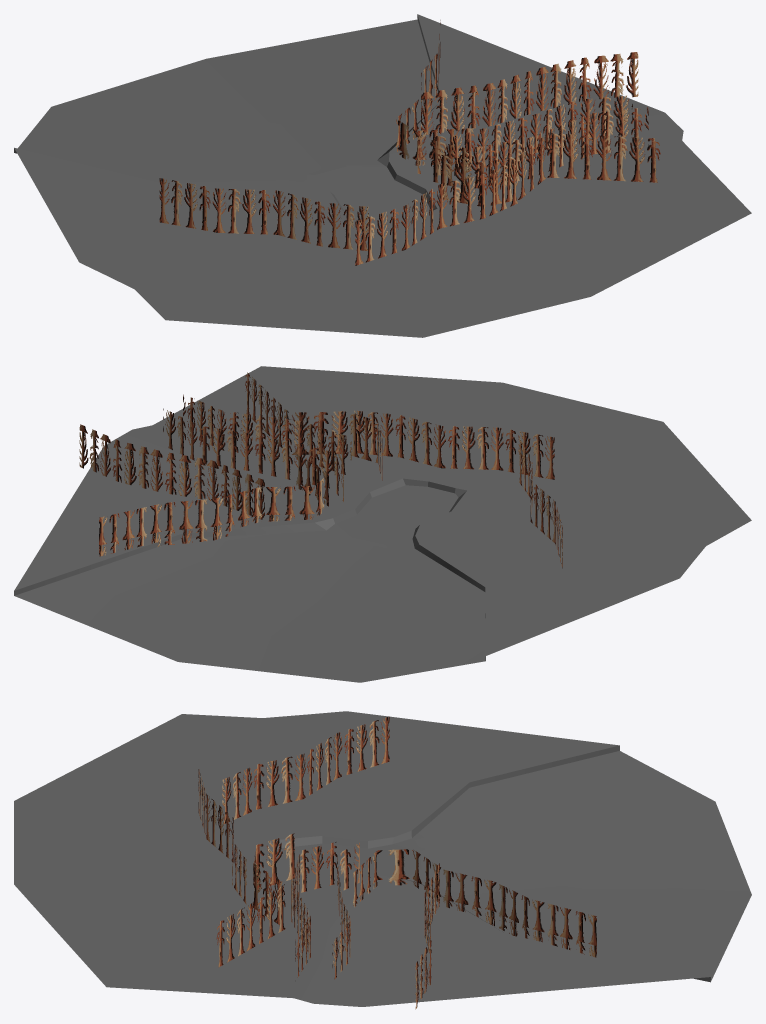
The model's file is NEW_N2_PREBOSS.fbx.
The picture shows the model from 3 angles, top to bottom: view 1: azimuth 30°, elevation 25°; view 2: azimuth 150°, elevation 25°; view 3: azimuth 270°, elevation 25°; orthographic projection. The views are drawn at different scales.
Parts seen in each view (by area): view 1: Escenario, ArbolPlano4, pPlane4, ArbolPlano1, ArbolPlano, ArbolPlano2, ArbolPlano5, ArbolPlano3; view 2: Escenario, ArbolPlano3, ArbolPlano4, ArbolPlano, ArbolPlano5, ArbolPlano2, ArbolPlano1, pPlane4; view 3: Escenario, ArbolPlano3, pPlane4, ArbolPlano1, ArbolPlano2, ArbolPlano, ArbolPlano5, ArbolPlano4.
Boxes of the visible parts, bbox=[...] form: Escenario: bbox=[14, 14, 751, 337]; ArbolPlano4: bbox=[421, 52, 638, 134]; pPlane4: bbox=[159, 178, 368, 250]; ArbolPlano1: bbox=[441, 133, 660, 206]; ArbolPlano: bbox=[355, 159, 518, 265]; ArbolPlano2: bbox=[430, 107, 648, 189]; ArbolPlano5: bbox=[417, 95, 632, 175]; ArbolPlano3: bbox=[396, 20, 473, 165]; Escenario: bbox=[14, 366, 751, 682]; ArbolPlano3: bbox=[99, 454, 328, 556]; ArbolPlano4: bbox=[79, 424, 264, 519]; ArbolPlano: bbox=[354, 410, 554, 479]; ArbolPlano5: bbox=[163, 408, 343, 501]; ArbolPlano2: bbox=[183, 394, 351, 474]; ArbolPlano1: bbox=[245, 372, 382, 480]; pPlane4: bbox=[519, 440, 562, 568]; Escenario: bbox=[14, 711, 751, 1006]; ArbolPlano3: bbox=[353, 849, 596, 957]; pPlane4: bbox=[222, 716, 389, 823]; ArbolPlano1: bbox=[216, 833, 294, 967]; ArbolPlano2: bbox=[291, 842, 337, 977]; ArbolPlano: bbox=[198, 769, 246, 904]; ArbolPlano5: bbox=[332, 843, 359, 979]; ArbolPlano4: bbox=[415, 863, 439, 1009].
Size of what is drawn, in the model's own units: 230 by 24.26 by 243.
